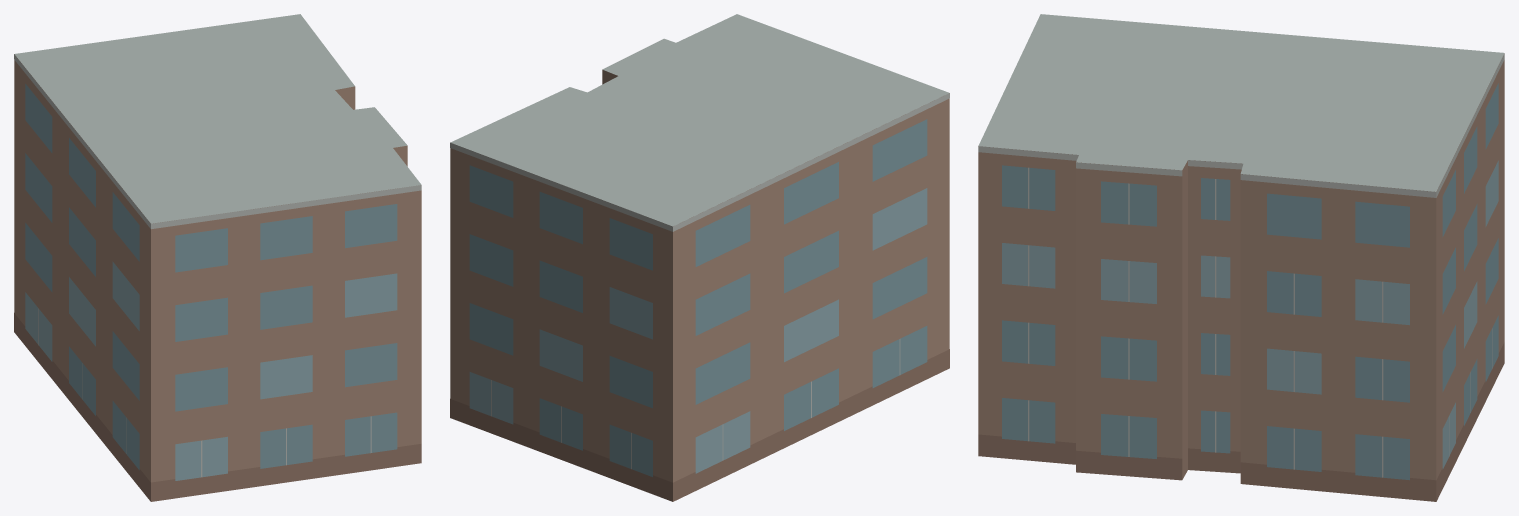
File: survey-upis-32686289.glb
The picture shows the model from 3 angles, left to right: view 1: azimuth 30°, elevation 25°; view 2: azimuth 150°, elevation 25°; view 3: azimuth 270°, elevation 25°; orthographic projection. The views are drawn at different scales.
Parts seen in each view (by area): view 1: survey-upis-32686289.tmp; view 2: survey-upis-32686289.tmp; view 3: survey-upis-32686289.tmp.
Boxes of the visible parts, box(x1,y1,x2,y2) form: survey-upis-32686289.tmp: box(14, 14, 421, 501); survey-upis-32686289.tmp: box(450, 14, 949, 501); survey-upis-32686289.tmp: box(978, 14, 1504, 501).
Size of the model in its own units: 15.27 by 12.4 by 19.09.
